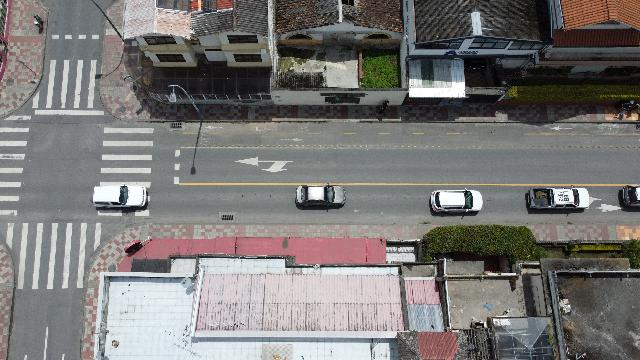Vehiculo: (525, 186, 589, 210), (90, 185, 148, 209), (430, 189, 482, 215), (294, 184, 346, 208), (620, 184, 640, 207)
